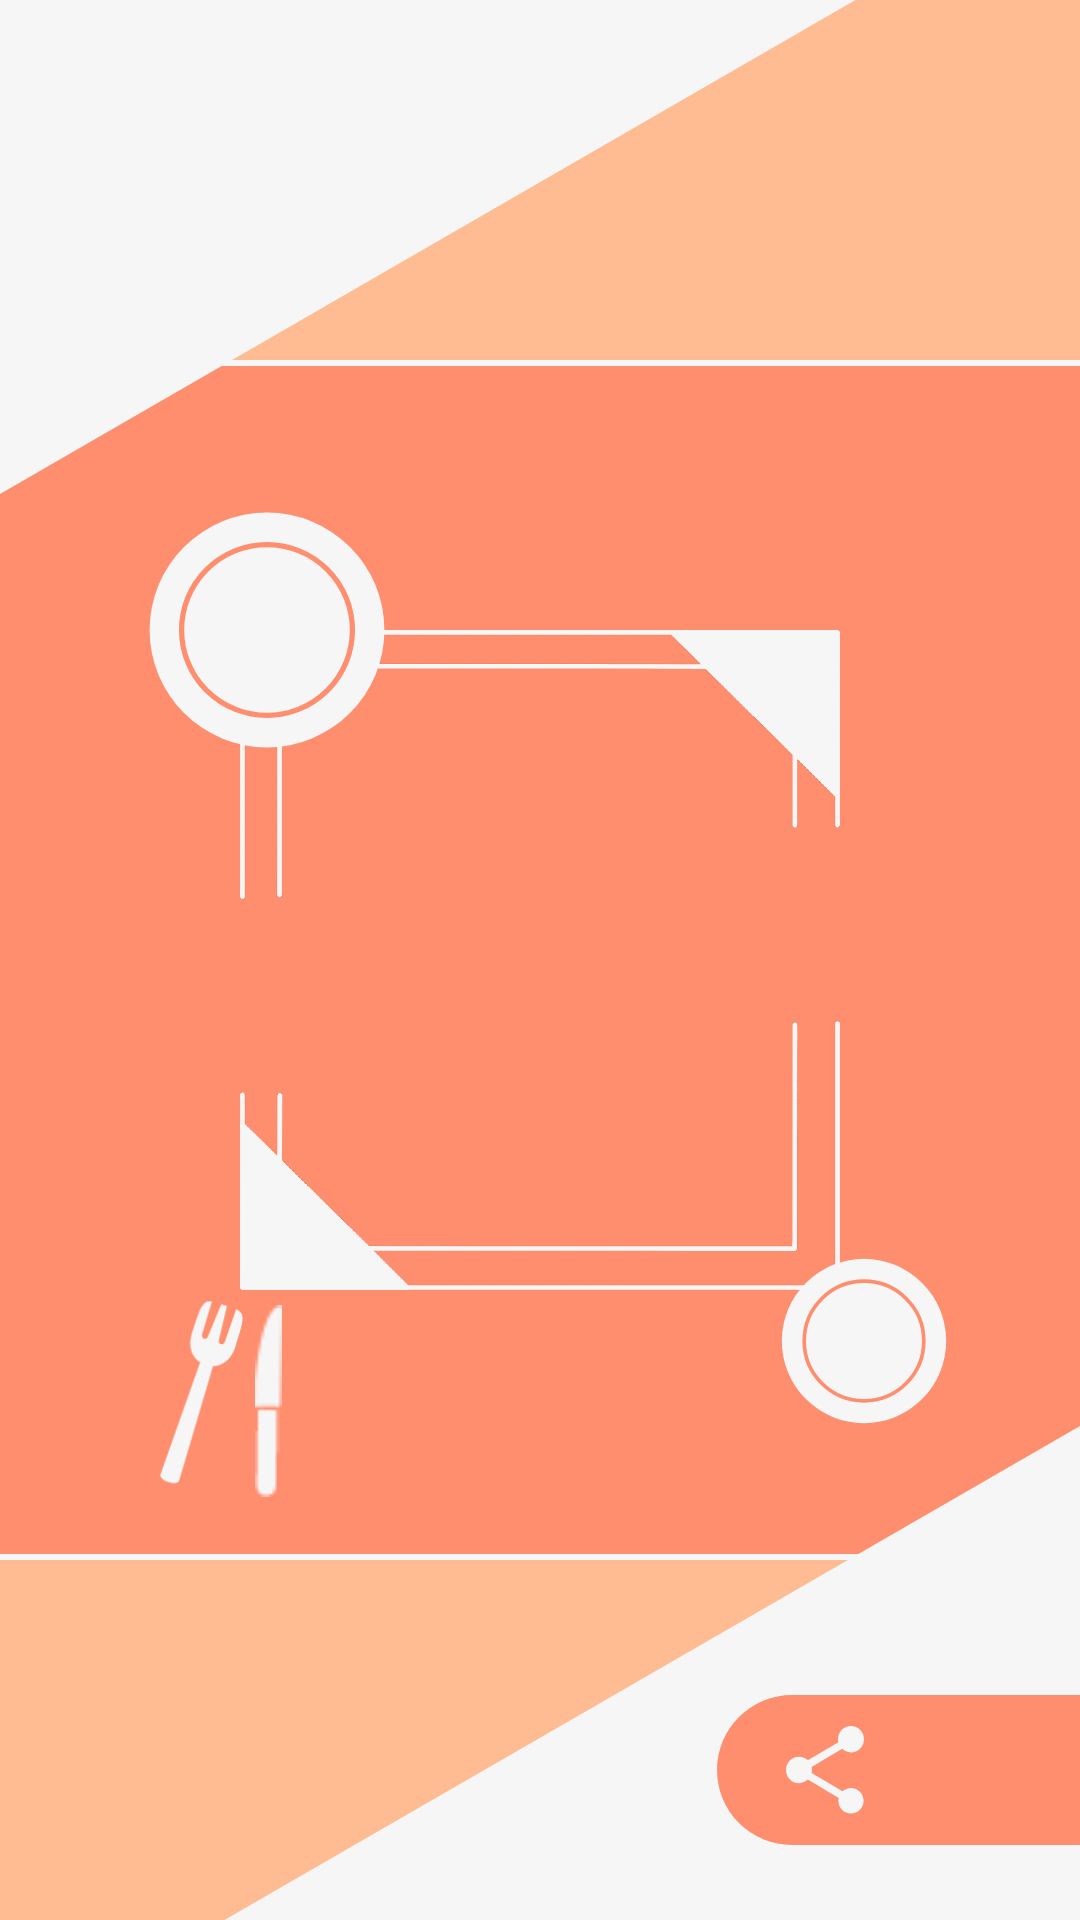

Screen size 1080px x 1920px. Icon name, then its box in pixels as (x1, y1, x2, y2):
share: (786, 1726, 864, 1814)
